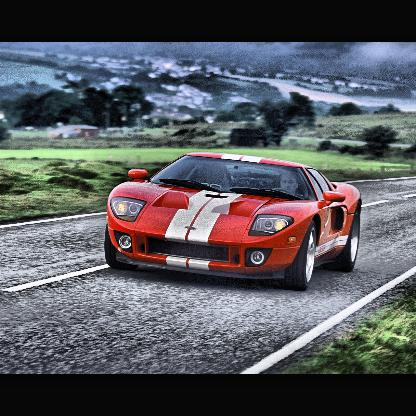Ford GT Coupe 2006: (106, 150, 363, 292)
